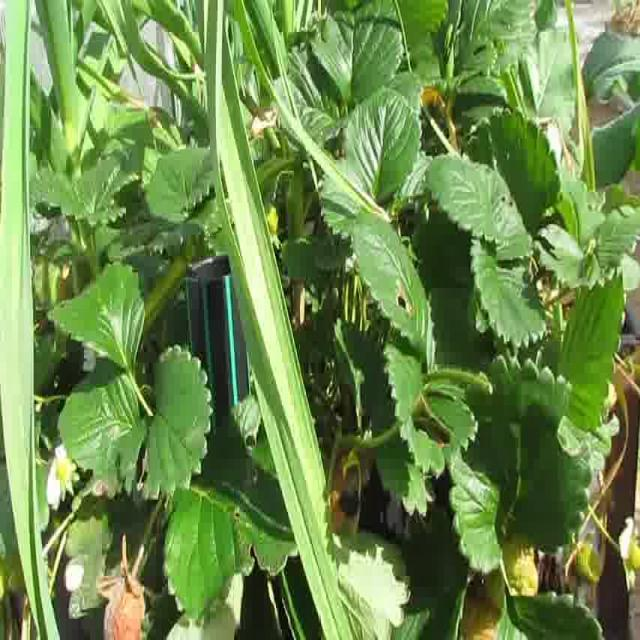Moho gris: (98, 557, 144, 640)
